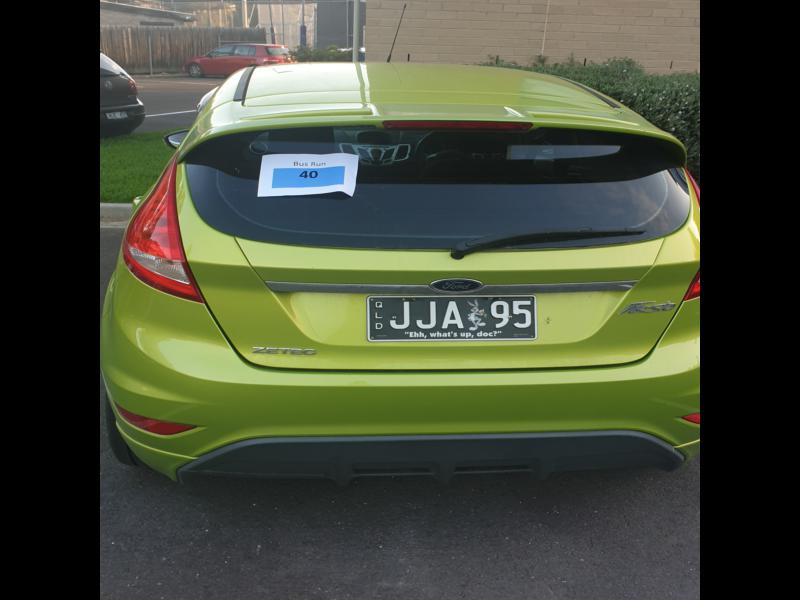BusRun: (271, 166, 345, 188)
PlateNo: (370, 292, 540, 335)
